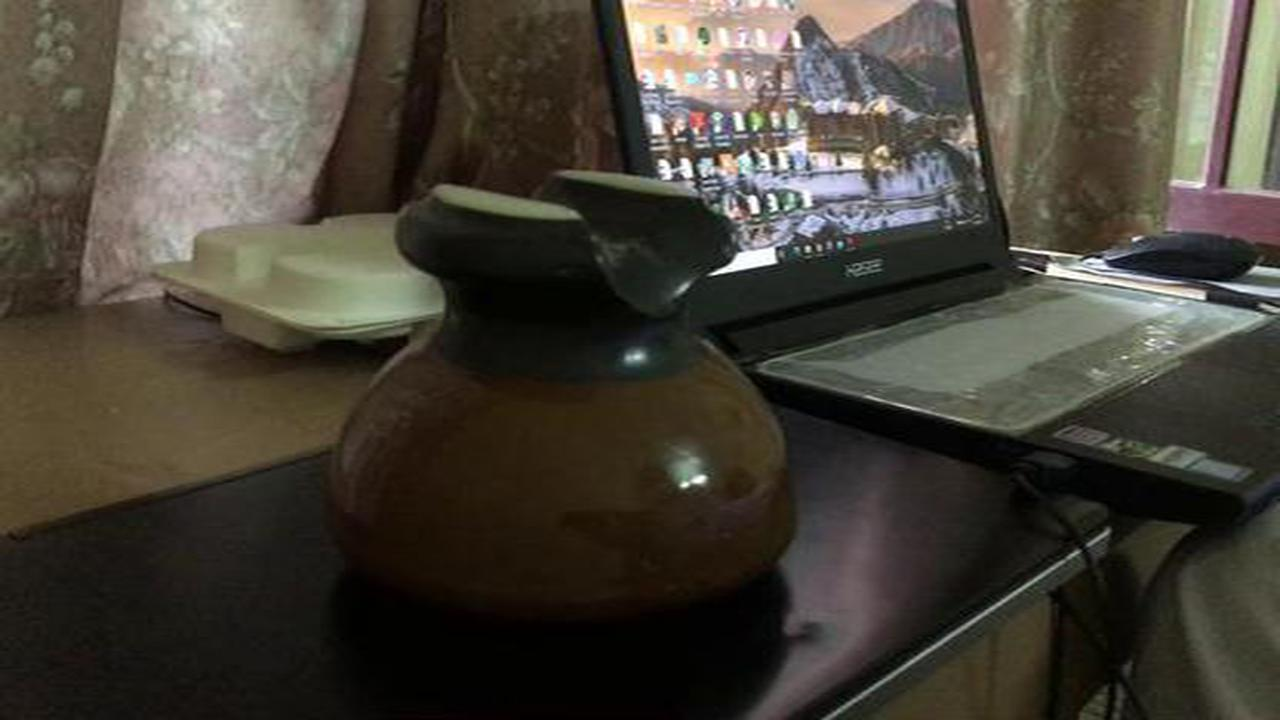insulator_pin: (317, 148, 813, 613)
